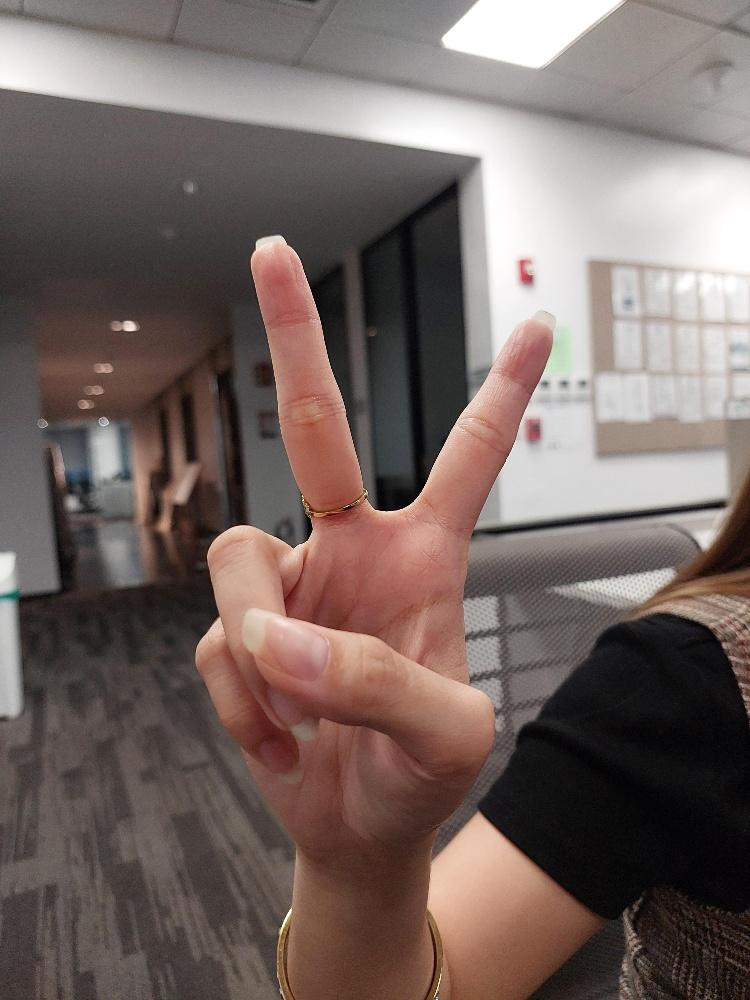v: (190, 231, 558, 879)
